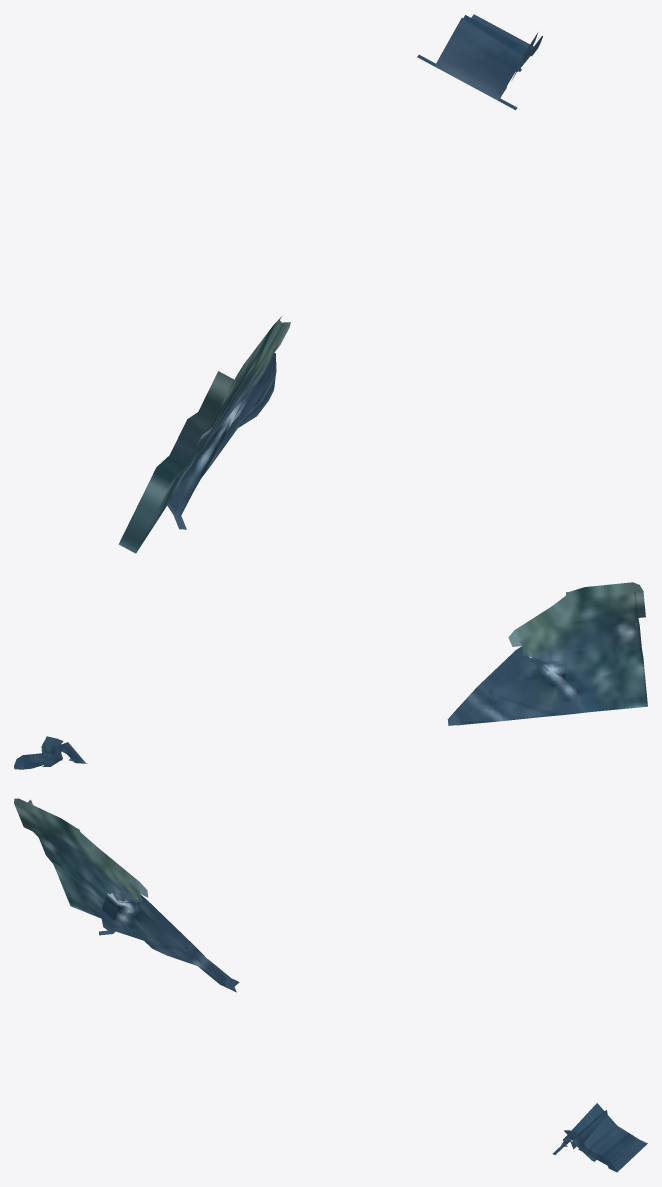
Rendered from masp_tile_8.glb.
3 renders of one model, top to bottom at view 1: azimuth 30°, elevation 25°; view 2: azimuth 150°, elevation 25°; view 3: azimuth 270°, elevation 25°, orthographic. The views are drawn at different scales.
Size of the model in its own units: 22.8 by 5.73 by 23.34.
Materials: 1 (1 with a texture image).
